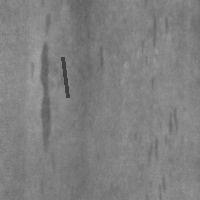inclusion: (28, 34, 56, 155), (146, 104, 180, 164), (146, 12, 170, 48), (92, 38, 108, 76), (150, 175, 173, 199), (60, 55, 69, 99)
